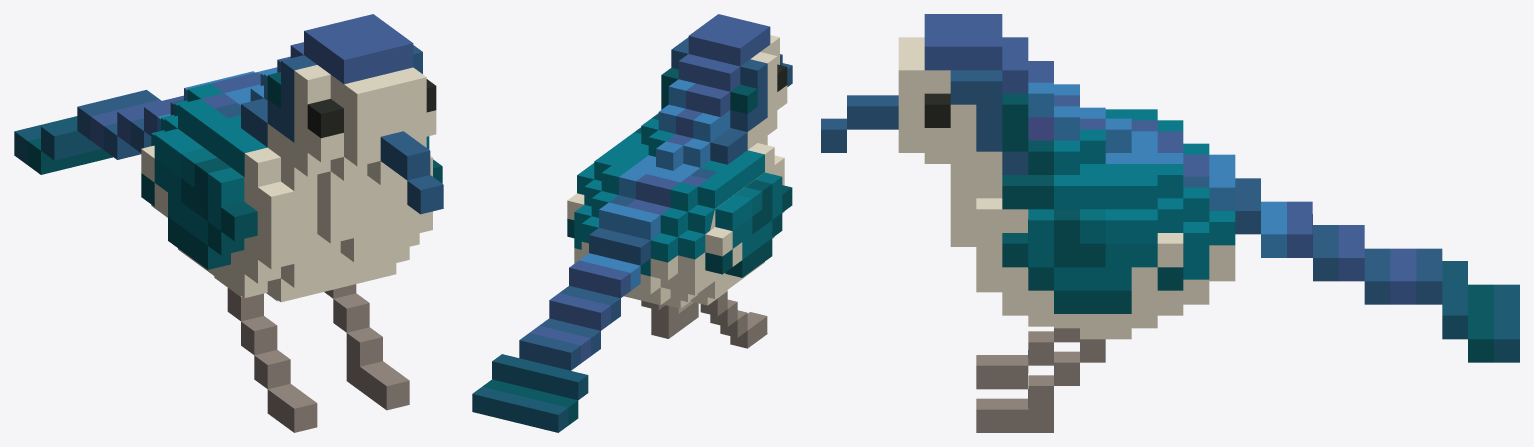
File: NoAnimations_ExoticBird.fbx
3 renders of one model, left to right at view 1: azimuth 30°, elevation 25°; view 2: azimuth 150°, elevation 25°; view 3: azimuth 270°, elevation 25°, orthographic. The views are drawn at different scales.
Parts seen in each view (by area): view 1: polySurface25, polySurface29, polySurface20, polySurface26, polySurface27; view 2: polySurface25, polySurface20, polySurface29, polySurface26, polySurface27, polySurface24; view 3: polySurface25, polySurface20, polySurface24, polySurface27, polySurface26.
Part boxes in pixels (x1,y1,x2,y2): polySurface25: (151, 14, 443, 302); polySurface29: (141, 128, 257, 269); polySurface20: (14, 90, 183, 174); polySurface26: (227, 288, 317, 432); polySurface27: (324, 284, 409, 410); polySurface25: (574, 14, 792, 308); polySurface20: (472, 253, 640, 432); polySurface29: (705, 172, 792, 277); polySurface26: (700, 291, 767, 348); polySurface27: (641, 300, 698, 338); polySurface24: (567, 163, 594, 238); polySurface25: (821, 14, 1260, 339); polySurface20: (1261, 201, 1519, 362); polySurface24: (1002, 209, 1183, 313); polySurface27: (976, 339, 1105, 432); polySurface26: (976, 328, 1079, 389).
Size of the model in its own units: 9.01 by 16 by 27.
